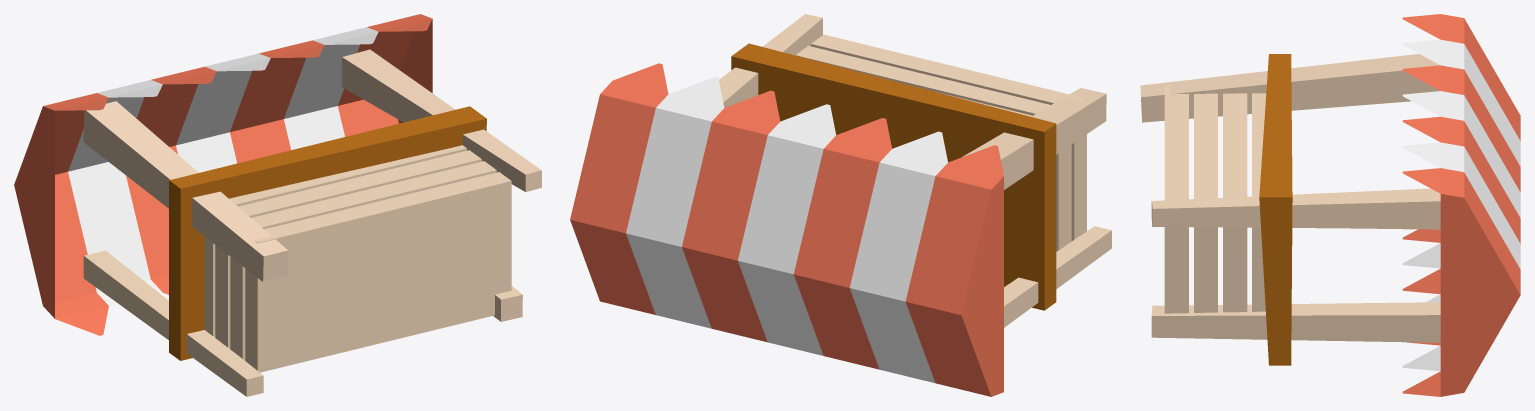
Rendered from stand.fbx.
The picture shows the model from 3 angles, left to right: view 1: azimuth 30°, elevation 25°; view 2: azimuth 150°, elevation 25°; view 3: azimuth 270°, elevation 25°; orthographic projection. The views are drawn at different scales.
Visible parts, largest first — view 1: stand, top, pillars, flat; view 2: top, flat, stand, pillars; view 3: top, pillars, stand, flat.
Boxes of the visible parts, x1,y1,x2,y2 form: stand: (204,145,511,372); top: (14,14,432,335); pillars: (83,49,541,396); flat: (169,106,486,360); top: (570,63,1003,396); flat: (731,43,1056,310); stand: (795,34,1086,251); pillars: (719,14,1111,327); top: (1402,14,1520,396); pillars: (1140,54,1440,342); stand: (1164,85,1266,313); flat: (1259,54,1292,365).
Bounding box in the file's own units: 2207 × 1260 × 1972.
